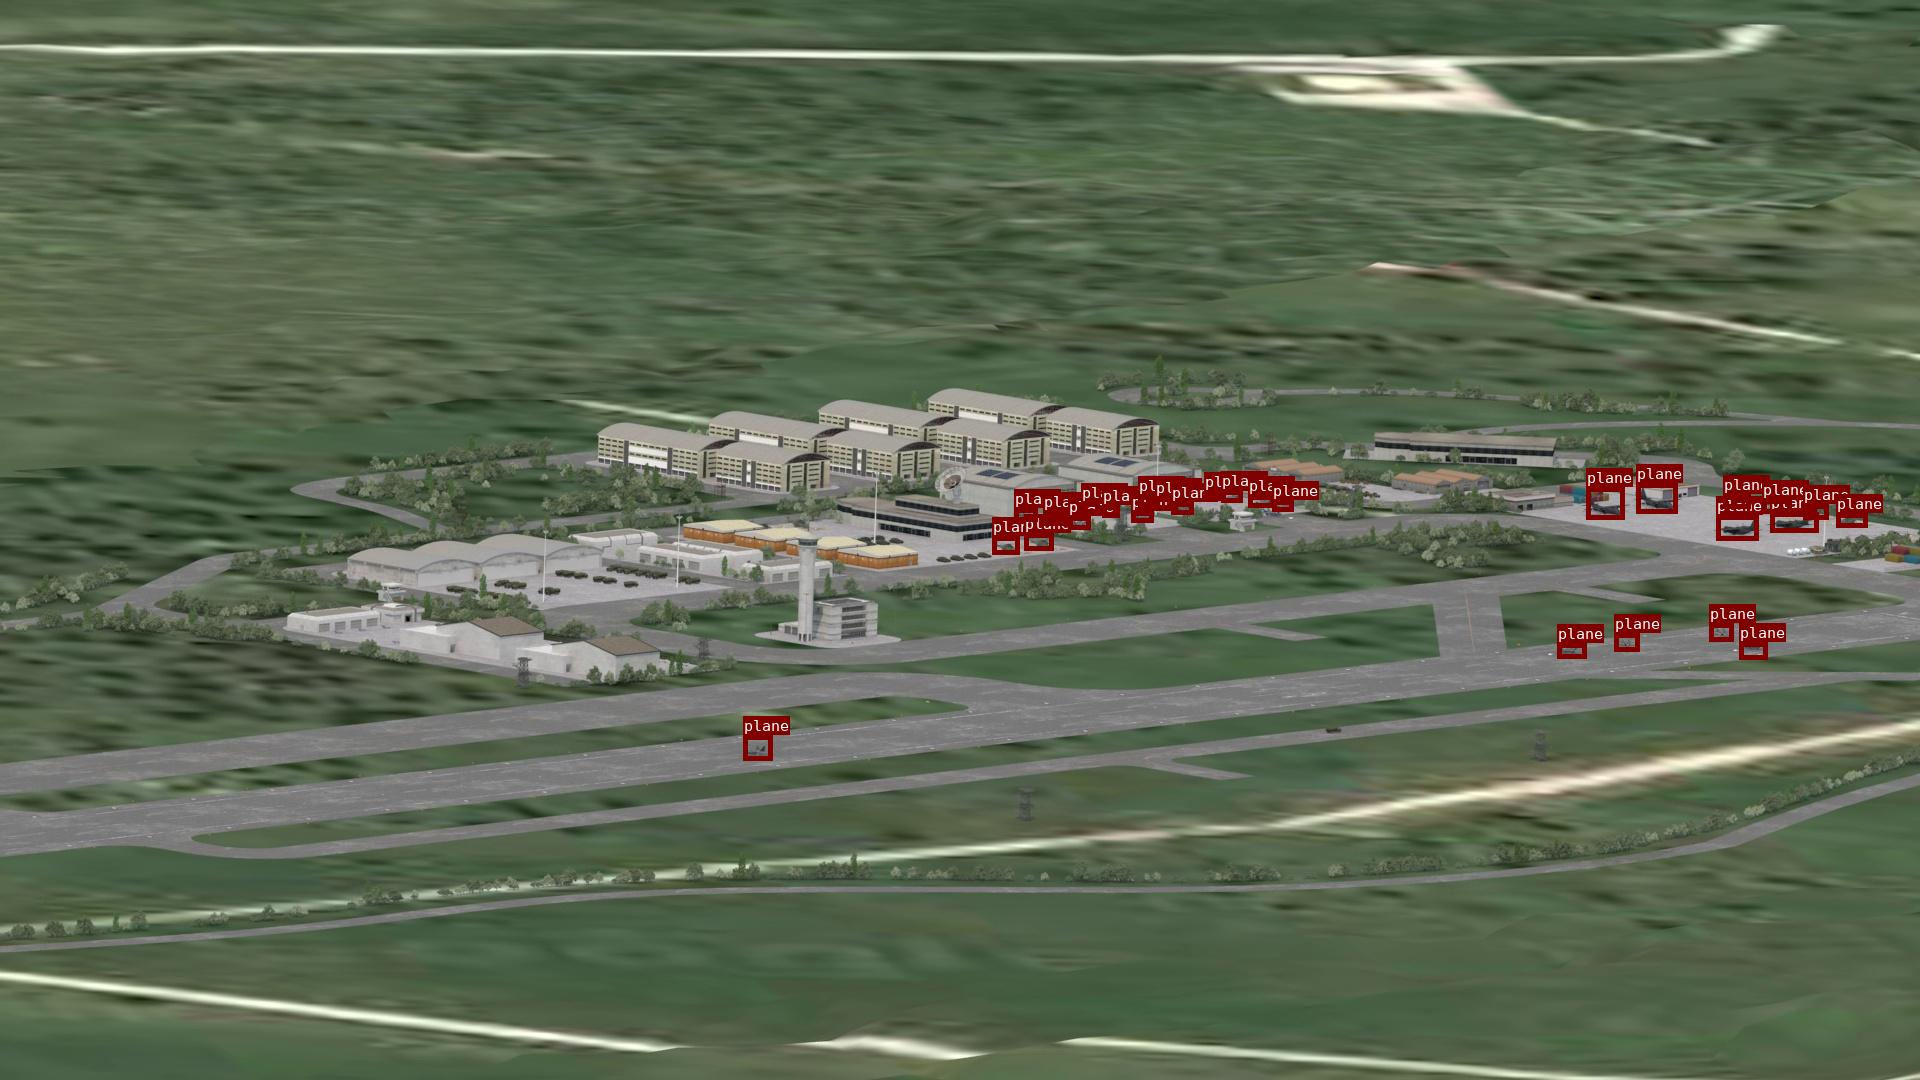plane: (1586, 487, 1625, 520), (1636, 483, 1677, 513), (1716, 516, 1758, 541), (1770, 512, 1818, 531), (742, 735, 771, 760), (992, 535, 1019, 554), (1025, 533, 1054, 550), (1739, 642, 1767, 659), (1614, 633, 1639, 651), (1836, 513, 1867, 527), (1709, 622, 1733, 641), (1557, 644, 1586, 658), (1762, 498, 1791, 513), (1803, 504, 1828, 520), (1724, 495, 1750, 508), (1043, 512, 1067, 525), (1247, 495, 1274, 506), (1014, 508, 1036, 521), (1068, 516, 1091, 529), (1171, 502, 1193, 514), (1221, 491, 1242, 502), (1273, 500, 1294, 512), (1131, 512, 1153, 522), (1155, 497, 1174, 509), (1102, 505, 1120, 517), (1138, 495, 1155, 506), (1081, 502, 1098, 513), (1204, 491, 1222, 500)
